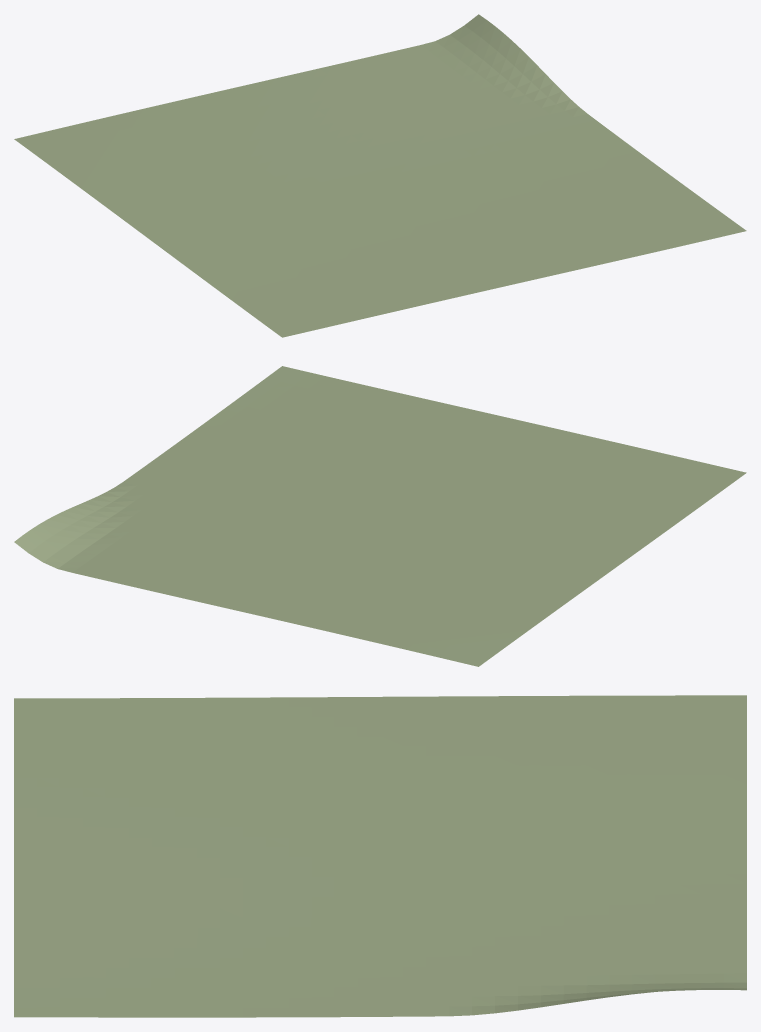
The model's file is desert-18-27.glb.
3 renders of one model, top to bottom at view 1: azimuth 30°, elevation 25°; view 2: azimuth 150°, elevation 25°; view 3: azimuth 270°, elevation 25°, orthographic. The views are drawn at different scales.
Visible parts, largest first — view 1: desert-18-27; view 2: desert-18-27; view 3: desert-18-27.
Part boxes in pixels (x1,y1,x2,y2): desert-18-27: [14, 14, 746, 337]; desert-18-27: [14, 366, 746, 666]; desert-18-27: [14, 695, 746, 1017].
Bounding box in the file's own units: 512 × 22.07 × 512.
